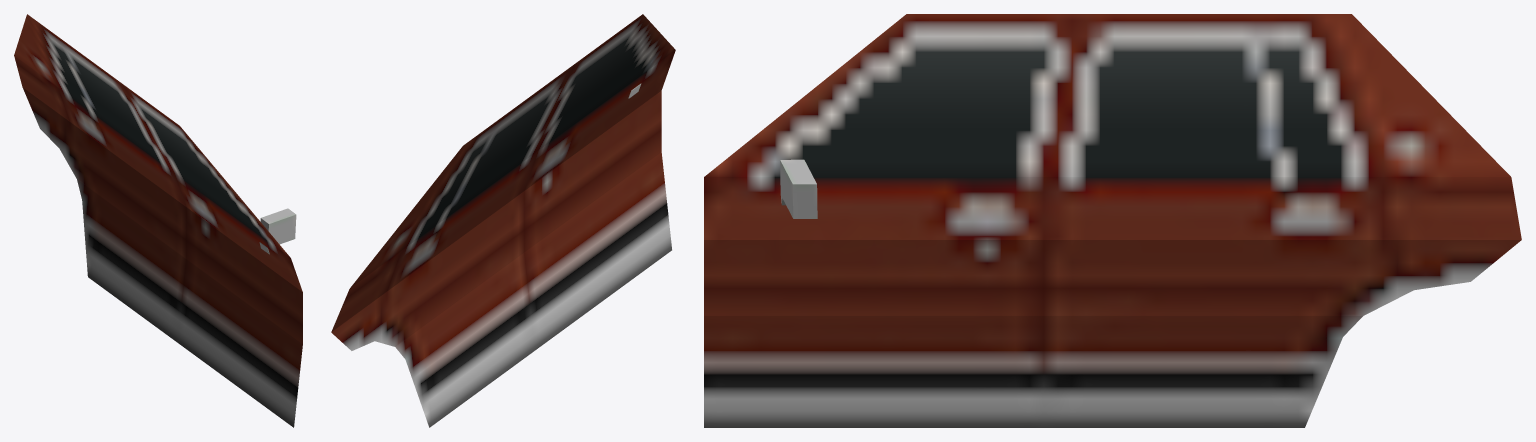
File: sedan_red_door_FL.obj
The picture shows the model from 3 angles, left to right: view 1: azimuth 30°, elevation 25°; view 2: azimuth 150°, elevation 25°; view 3: azimuth 270°, elevation 25°; orthographic projection. The views are drawn at different scales.
Parts seen in each view (by area): view 1: Car5.009, Car5.003; view 2: Car5.009; view 3: Car5.009, Car5.003.
Boxes of the visible parts, bbox=[...] form: Car5.009: bbox=[14, 14, 302, 427]; Car5.003: bbox=[259, 208, 296, 254]; Car5.009: bbox=[331, 14, 675, 427]; Car5.009: bbox=[704, 14, 1521, 427]; Car5.003: bbox=[780, 159, 817, 218].
Bounding box in the file's own units: 0.5158 × 1.67 × 3.23.
